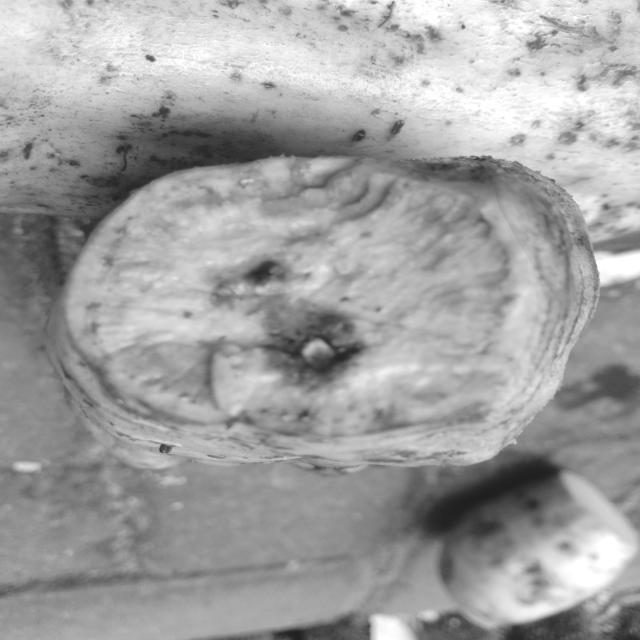Sick Sweet Potato_Tuber Rot: (48, 158, 558, 474)
